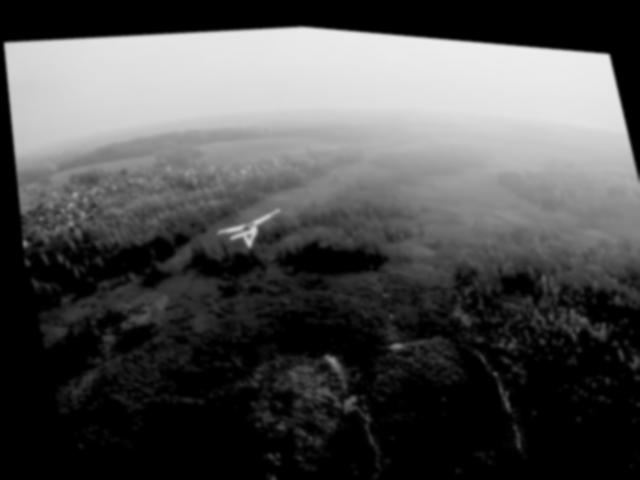hedef: (190, 184, 292, 269)
